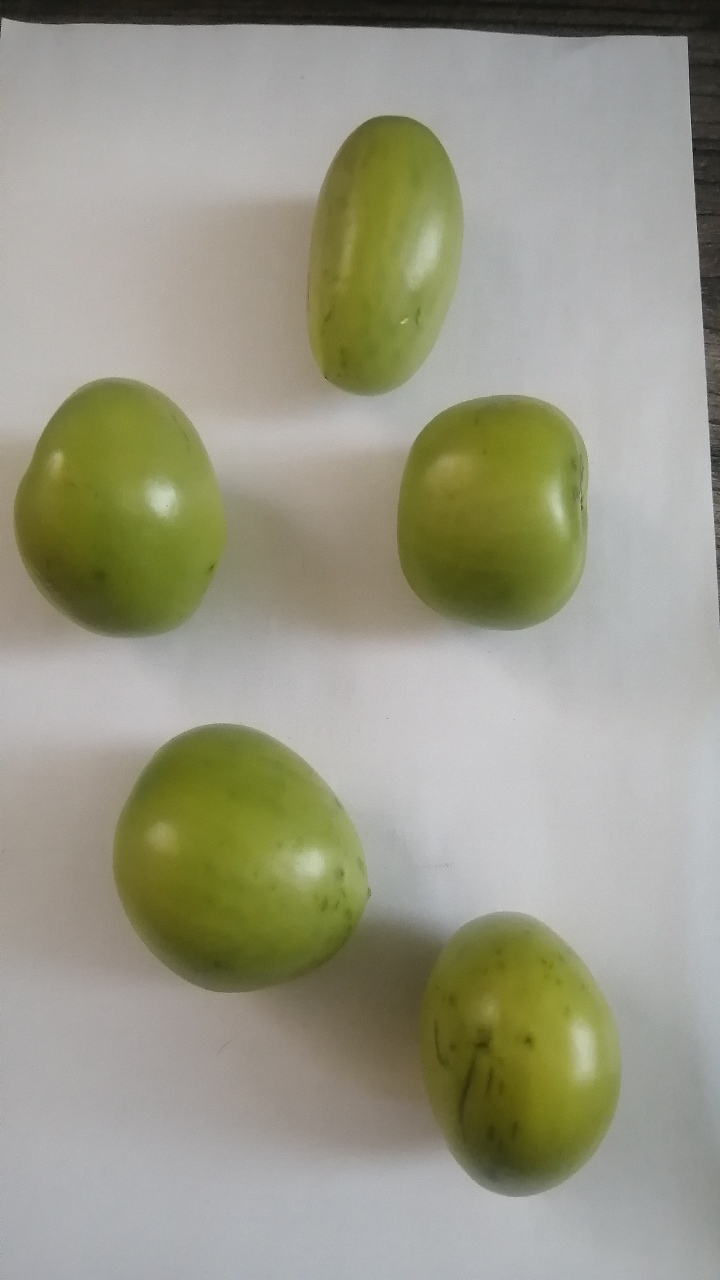tomateVerde: (101, 688, 384, 1023), (398, 891, 638, 1222), (358, 382, 617, 665), (8, 365, 258, 654), (277, 97, 481, 420)
